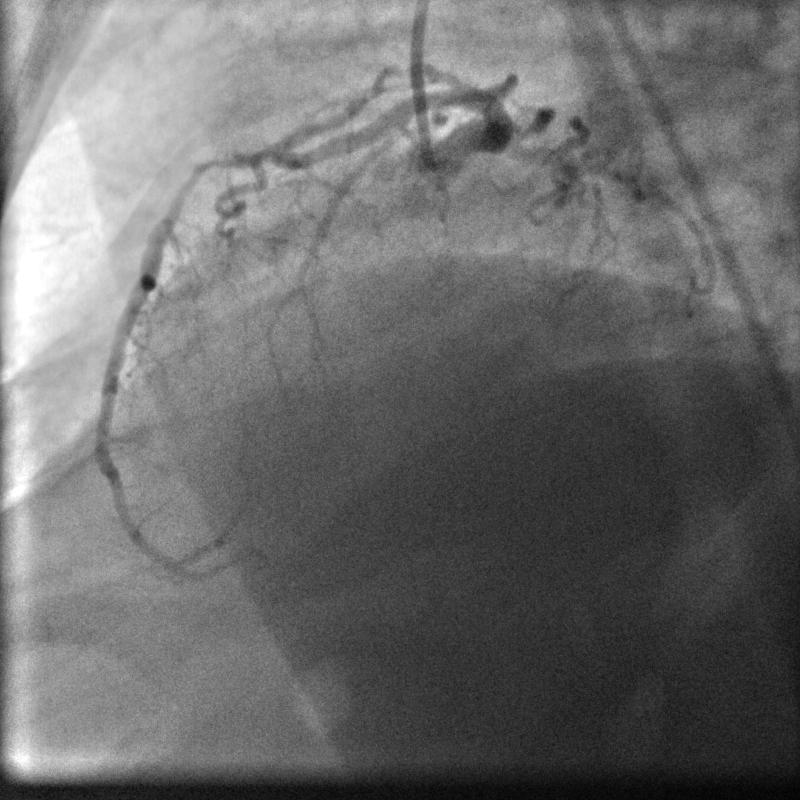Stenosis: (166, 150, 219, 211)
